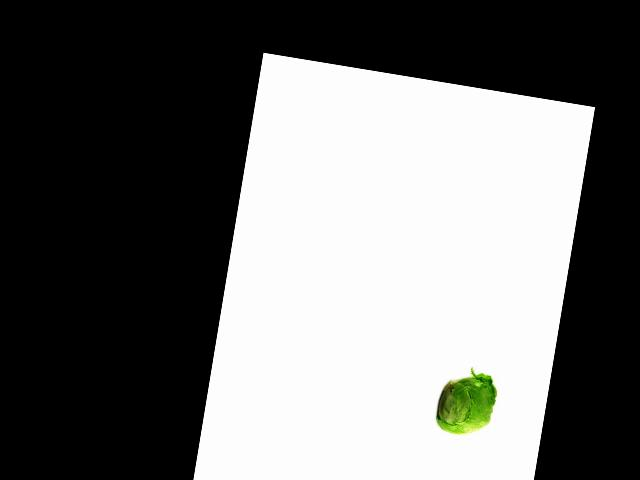lettuce: (431, 369, 501, 442)
